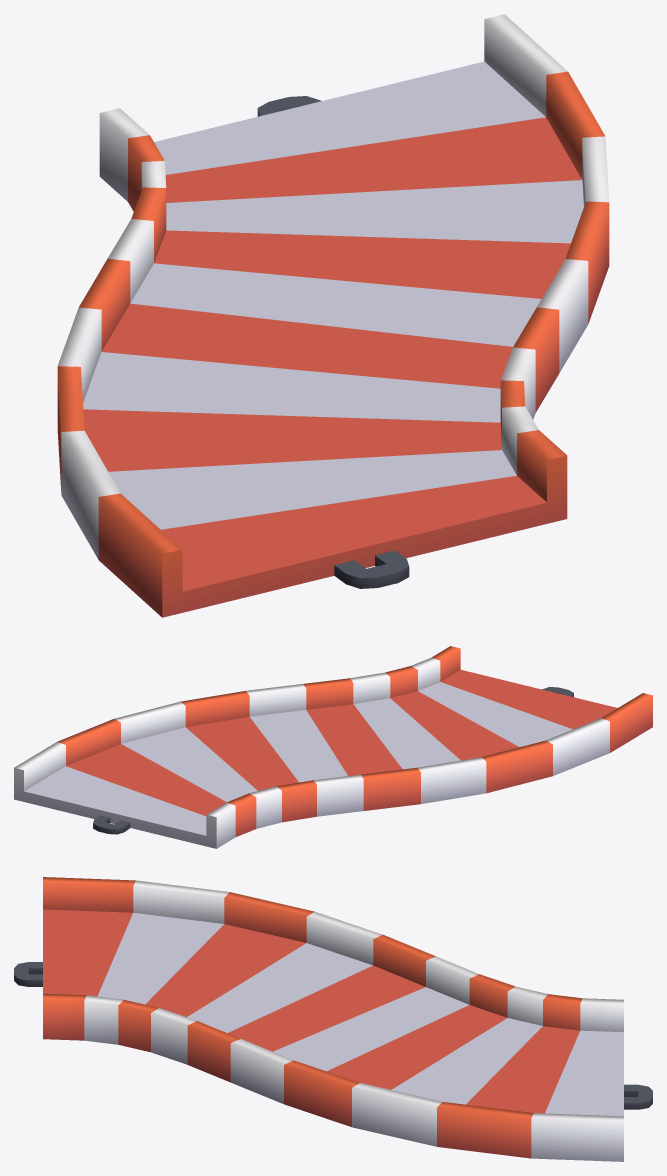
The model's file is track-striped-wide-curve.glb.
3 renders of one model, top to bottom at view 1: azimuth 30°, elevation 25°; view 2: azimuth 150°, elevation 25°; view 3: azimuth 270°, elevation 25°, orthographic. The views are drawn at different scales.
Parts seen in each view (by area): view 1: track-striped-wide-curve; view 2: track-striped-wide-curve; view 3: track-striped-wide-curve.
Part boxes in pixels (bbox=[...]): track-striped-wide-curve: bbox=[57, 14, 609, 617]; track-striped-wide-curve: bbox=[14, 646, 652, 848]; track-striped-wide-curve: bbox=[14, 877, 652, 1161].
Bounding box in the file's own units: 4 × 0.2997 × 4.4.
Materials: 1 (1 with a texture image).
